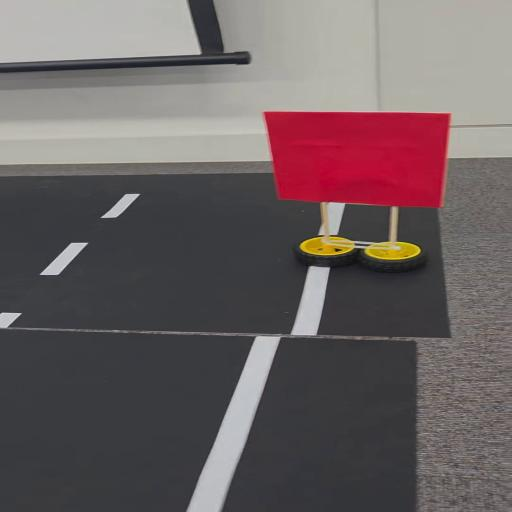Sign_A: (254, 105, 452, 276)
